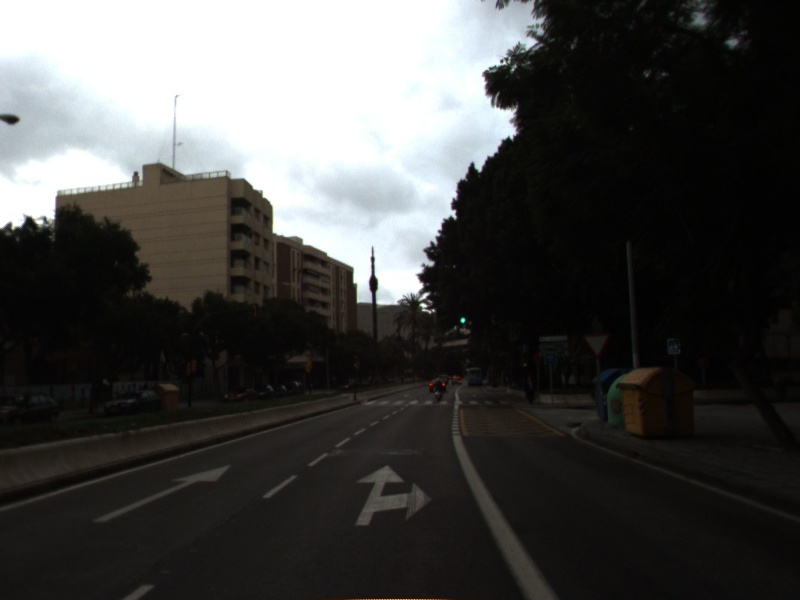STRAIGHT: (88, 462, 235, 525)
STRAIGHT_RIGHT: (353, 462, 435, 528)
